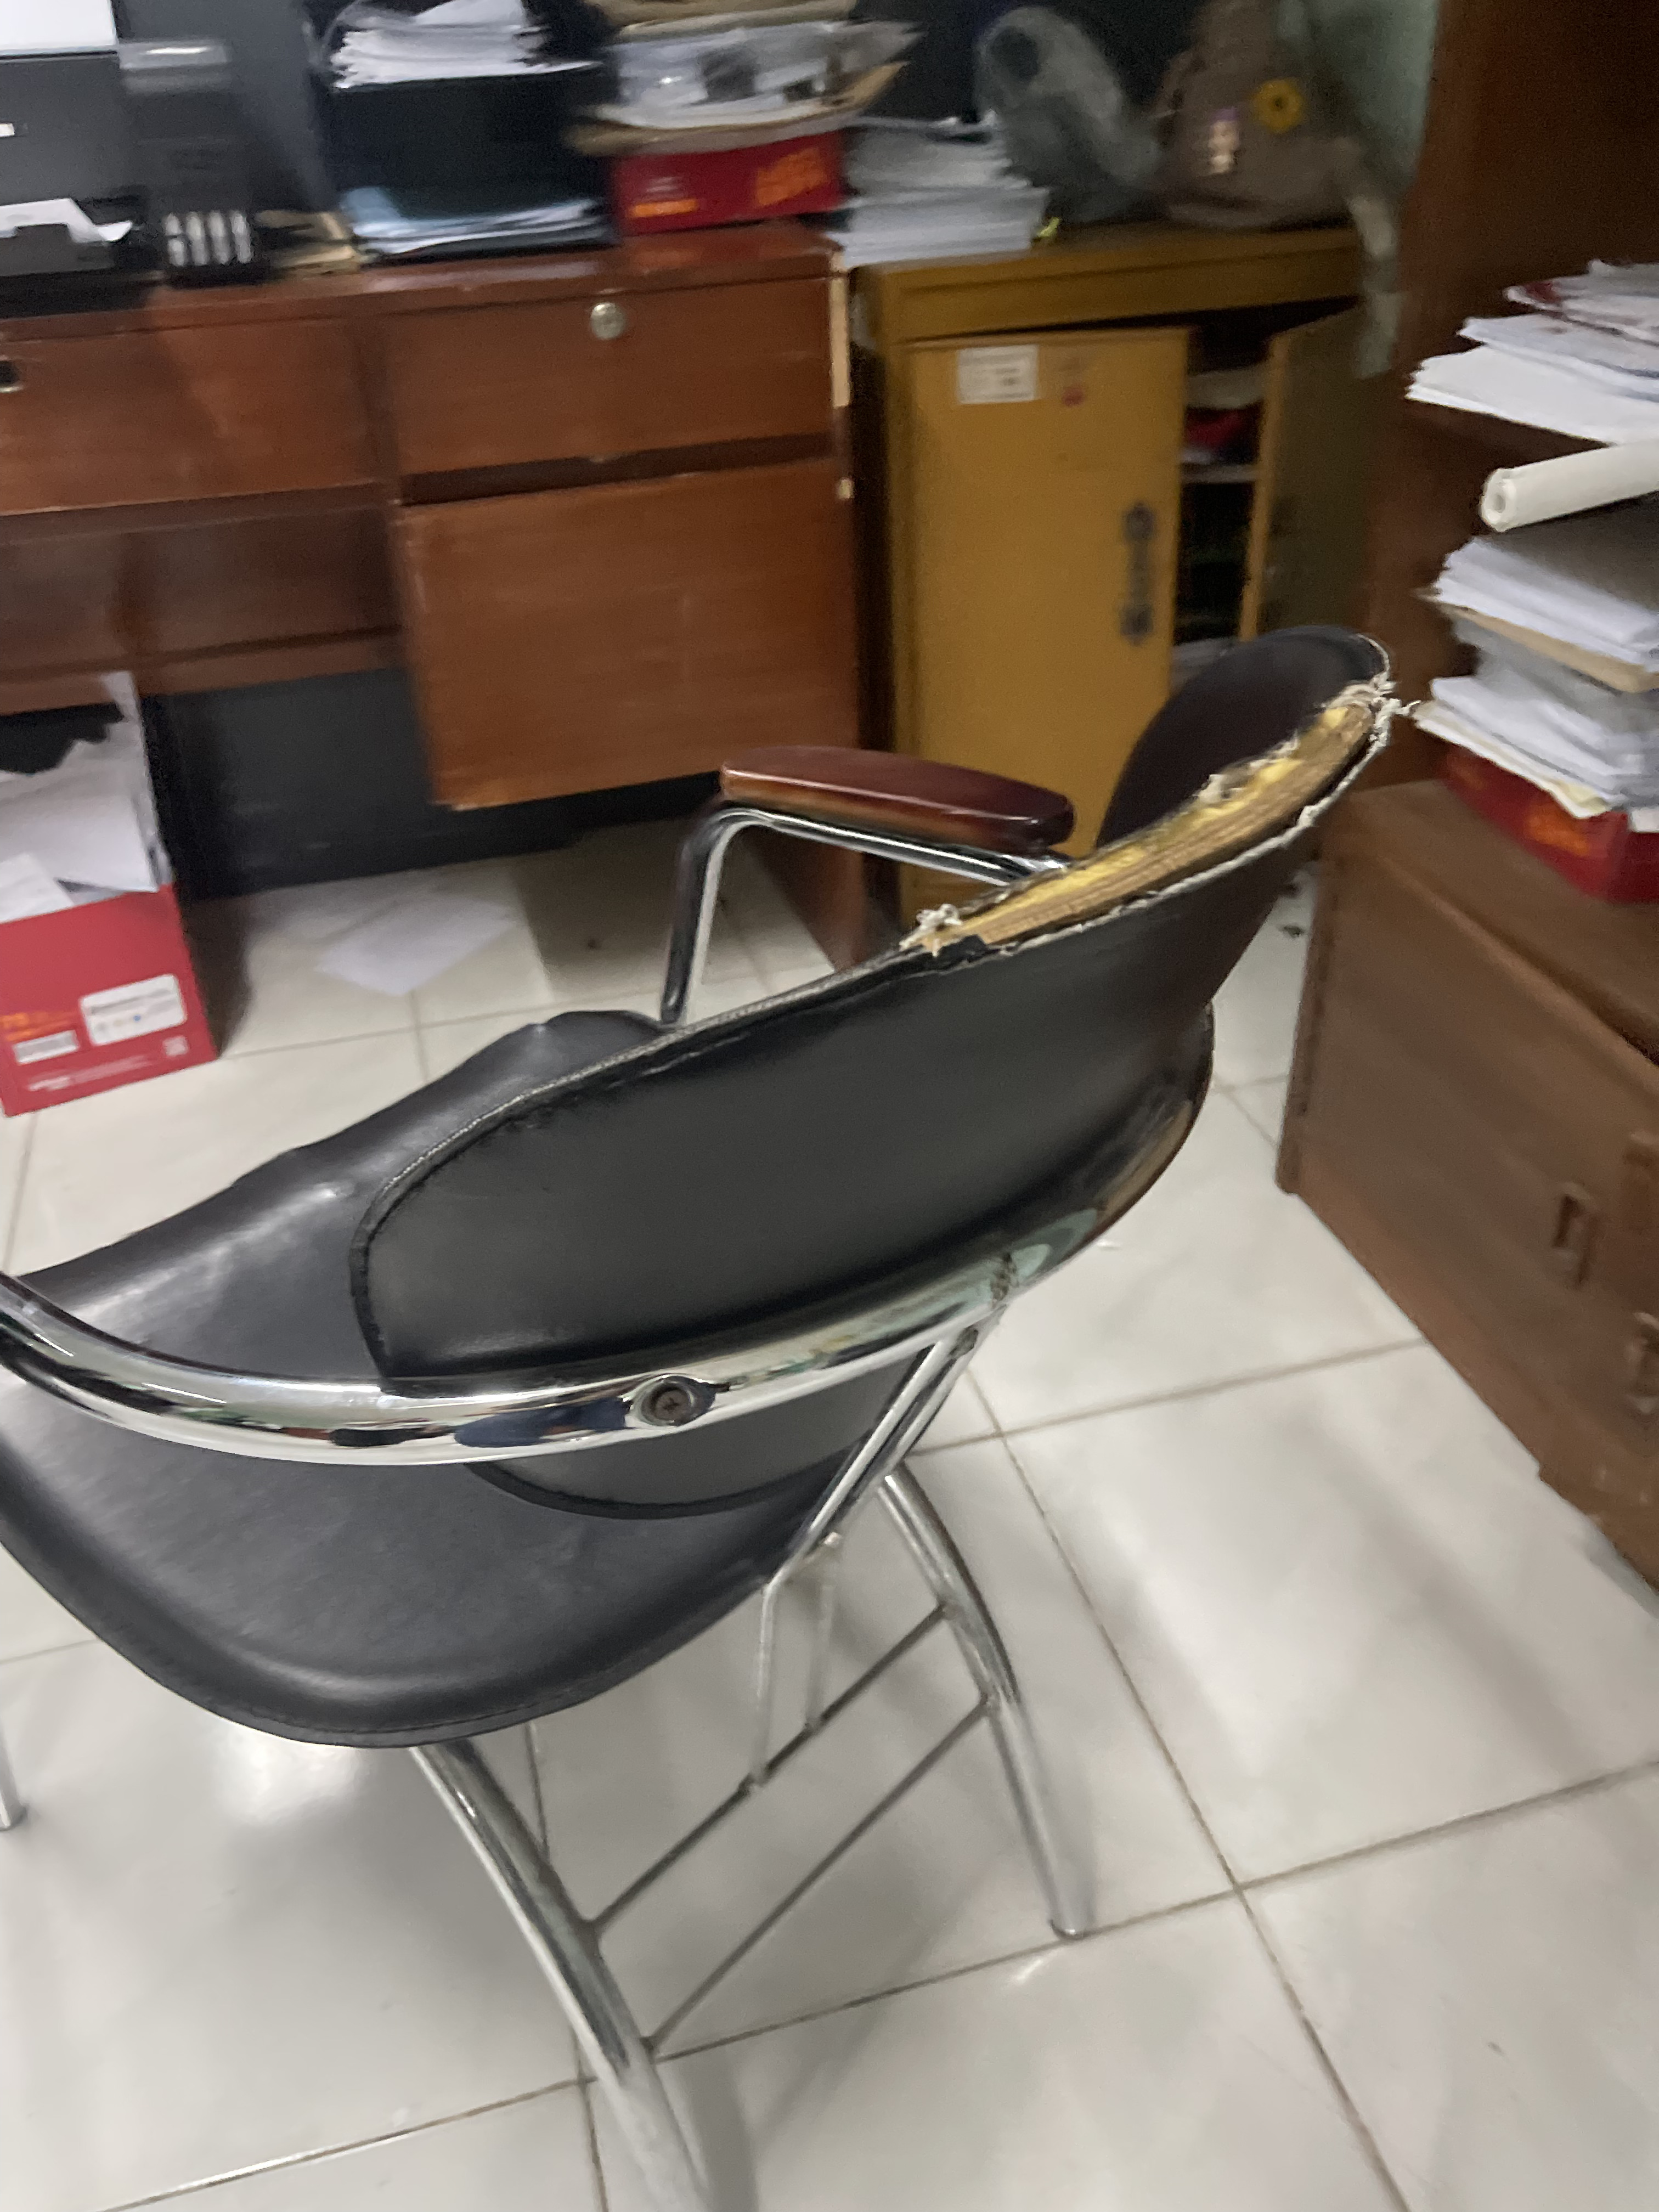chair1: (2, 622, 1406, 2212)
